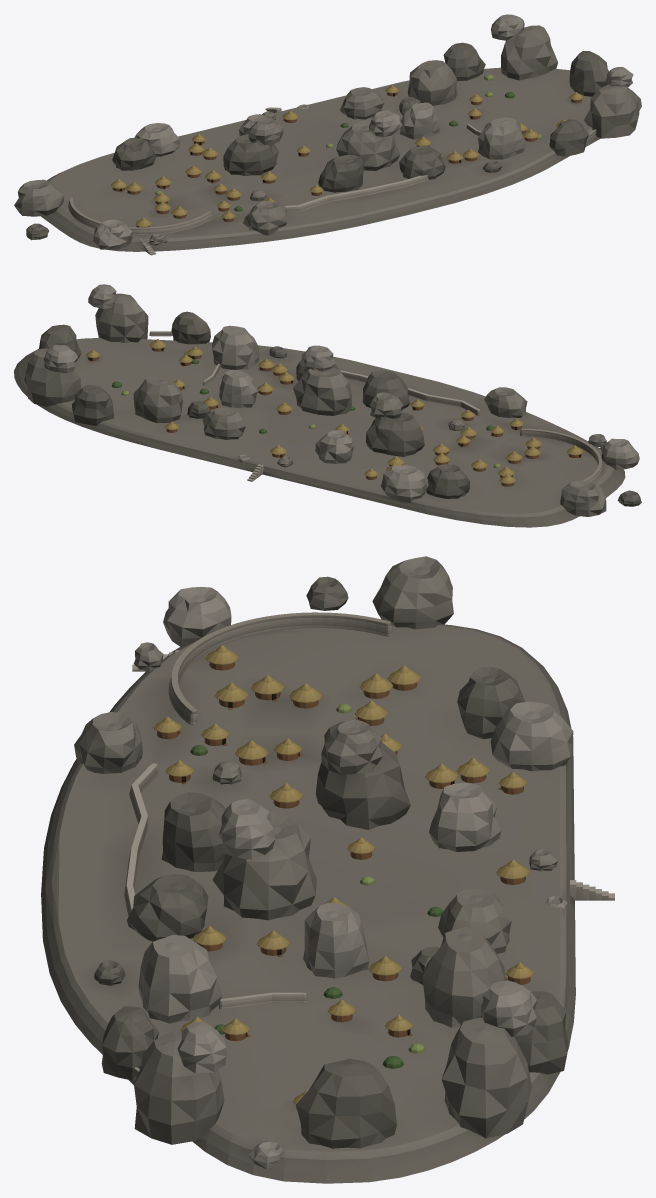
Rendered from hill-complex-1100.glb.
The picture shows the model from 3 angles, top to bottom: view 1: azimuth 30°, elevation 25°; view 2: azimuth 150°, elevation 25°; view 3: azimuth 270°, elevation 25°; orthographic projection. The views are drawn at different scales.
Visible parts, largest first — view 1: p0_kopje, p3_houses, p1_walls, p4_trees; view 2: p0_kopje, p3_houses, p1_walls, p4_trees; view 3: p0_kopje, p3_houses, p1_walls, p4_trees.
Part boxes in pixels (x1=…): p0_kopje: x1=14, y1=14, x2=641, y2=251; p3_houses: x1=110, y1=85, x2=583, y2=227; p1_walls: x1=68, y1=107, x2=596, y2=255; p4_trees: x1=155, y1=74, x2=542, y2=211; p0_kopje: x1=14, y1=284, x2=641, y2=527; p3_houses: x1=86, y1=339, x2=583, y2=486; p1_walls: x1=149, y1=331, x2=603, y2=487; p4_trees: x1=111, y1=351, x2=501, y2=468; p0_kopje: x1=41, y1=556, x2=575, y2=1183; p3_houses: x1=153, y1=645, x2=533, y2=1108; p1_walls: x1=124, y1=612, x2=614, y2=1077; p4_trees: x1=190, y1=703, x2=442, y2=1068.
Bounding box in the file's own units: 283 × 26.8 × 116.
